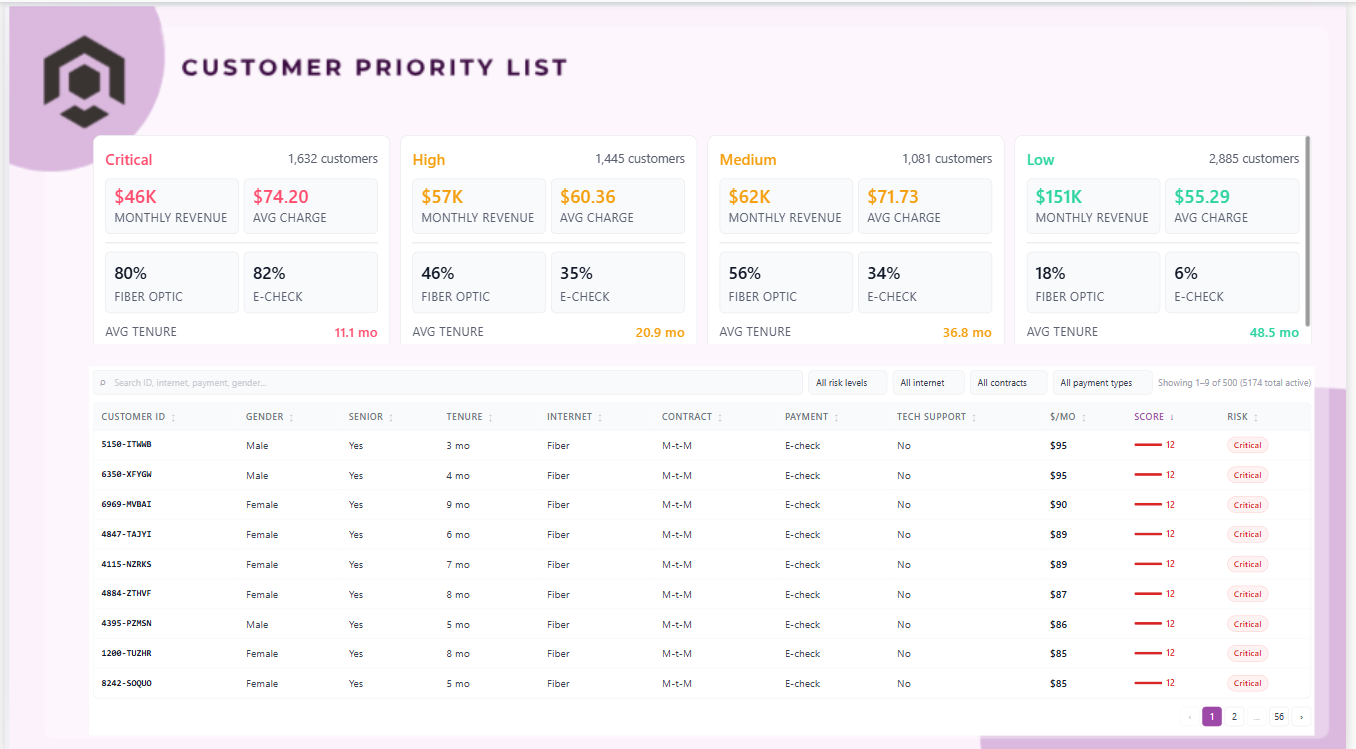

The page's visual inventory and layout, read from the dashboard file:
{"tool":"powerbi","page":{"name":"Priority list","canvas":[1920,1080],"ordinal":2},"visuals":[{"type":"htmlContent443BE3AD55E043BF878BED274D3A6855","fields":{"content":["_Measures.Risk Cards HTML"]},"box":[120.3,184.8,1755.4,309.4],"z":0},{"type":"htmlContent443BE3AD55E043BF878BED274D3A6855","fields":{"content":["_Measures.Customer Table HTML"]},"box":[120.3,522.1,1755.4,528.6],"z":1000}]}

Visuals, with their boxes in screenshot pixels (x1, y1, x2, y2), scaled from the page's 1920x1080 canvas onto the 1356x749 screenshot:
htmlContent443BE3AD55E043BF878BED274D3A6855 - _Measures.Risk Cards HTML: <region>85, 128, 1325, 343</region>
htmlContent443BE3AD55E043BF878BED274D3A6855 - _Measures.Customer Table HTML: <region>85, 362, 1325, 729</region>
